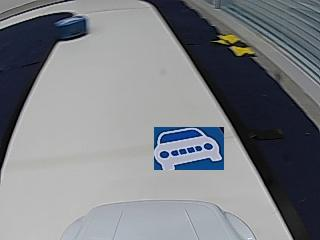prop: (55, 15, 89, 41)
